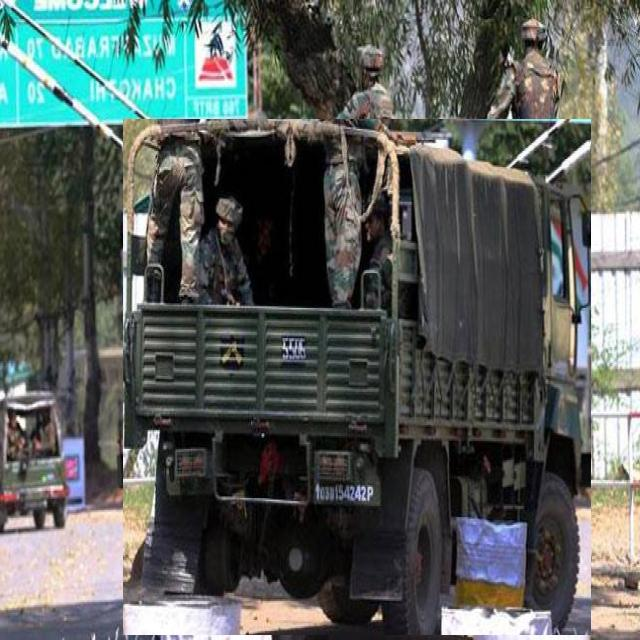truck: (123, 120, 590, 635)
